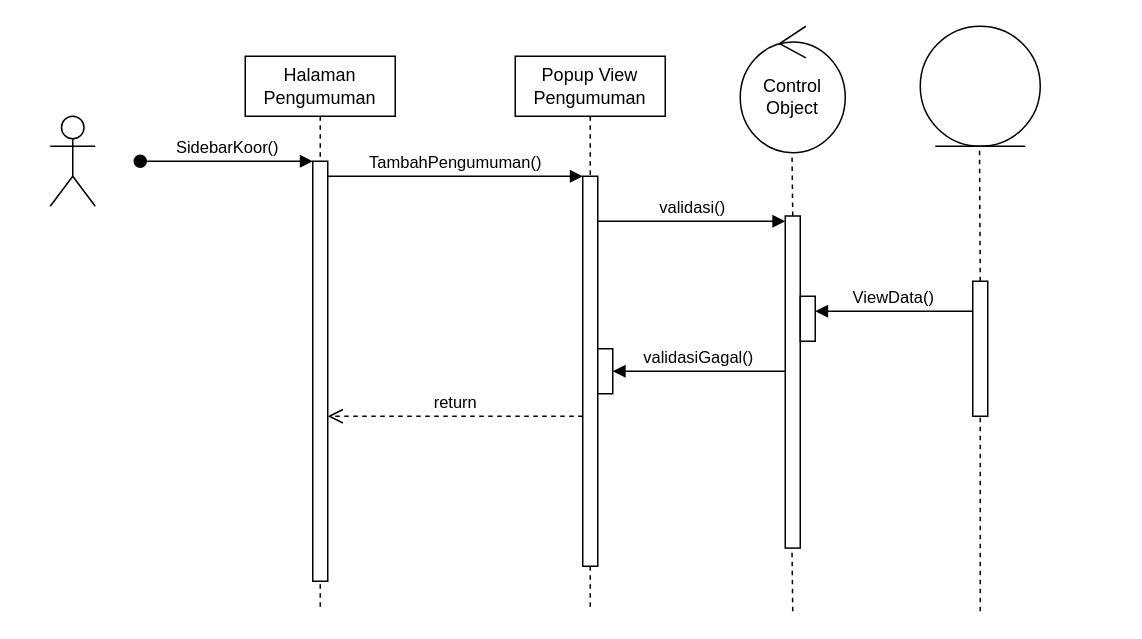
This 1142x639 diagram has some shape labels left out. The shapes that lost their labels are listed below. From the top down, each one's centre as x and y in pixels, then its label:
(979,85): Database
(72,160): Koordinator
